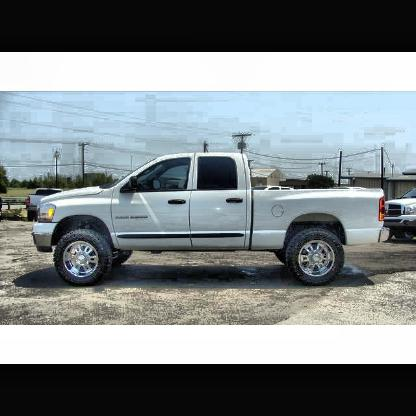Dodge Ram Pickup 3500 Quad Cab 2009: (34, 154, 391, 288)
